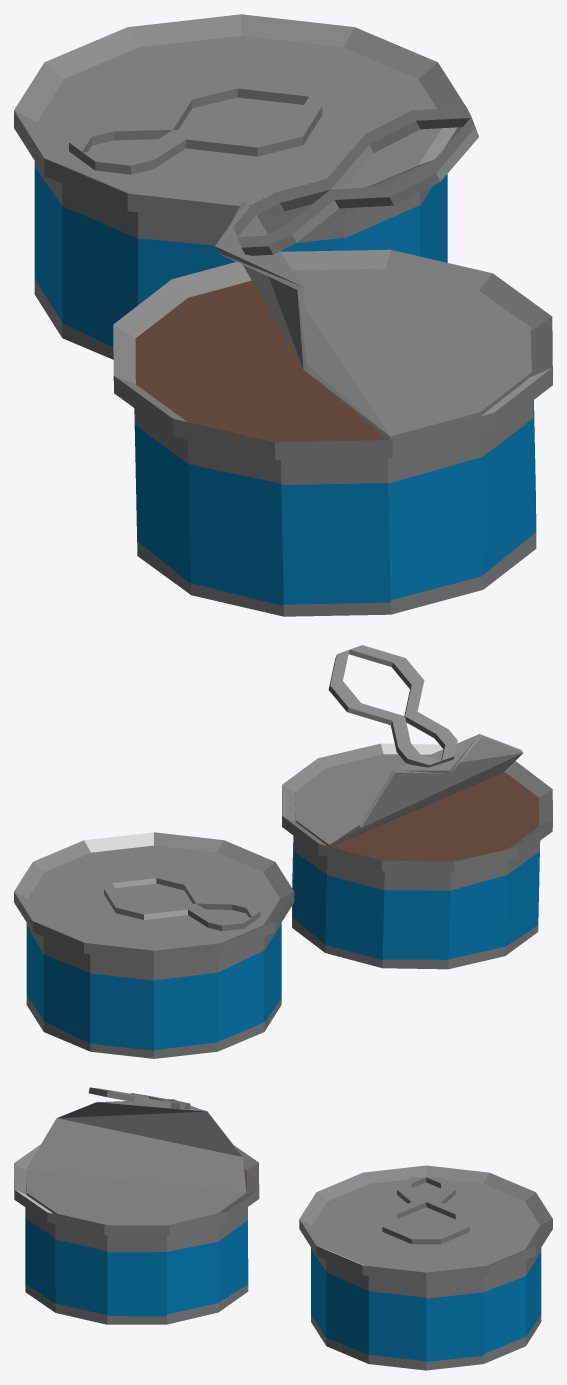
3 renders of one model, top to bottom at view 1: azimuth 30°, elevation 25°; view 2: azimuth 150°, elevation 25°; view 3: azimuth 270°, elevation 25°, orthographic. The views are drawn at different scales.
Parts seen in each view (by area): view 1: node_MeshObject-1242736640-PolyPaper21; view 2: node_MeshObject-1242736640-PolyPaper21; view 3: node_MeshObject-1242736640-PolyPaper21.
Boxes of the visible parts, x1,y1,x2,y2 form: node_MeshObject-1242736640-PolyPaper21: (14,14,552,616); node_MeshObject-1242736640-PolyPaper21: (14,645,552,1058); node_MeshObject-1242736640-PolyPaper21: (14,1087,552,1370).
Size of the model in its own units: 0.9768 by 0.6674 by 1.47.
